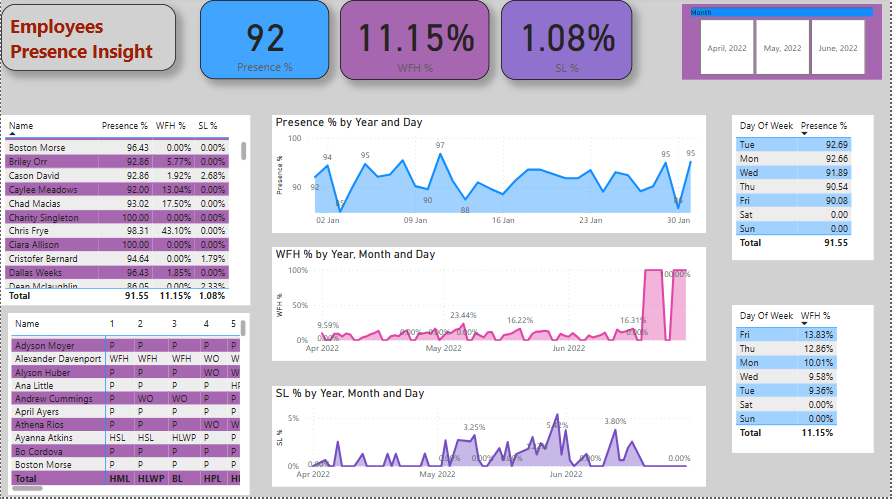

This screenshot's page, from the dashboard's own definition file:
{"tool":"powerbi","page":{"name":"Page 1","canvas":[1280,720],"ordinal":0},"visuals":[{"type":"card","fields":{"Values":["Measure Table.Presence %"]},"box":[10.1,50.4,185.8,113.8],"z":0},{"type":"card","fields":{"Values":["Measure Table.WFH %"]},"box":[216,54.7,191.5,109.4],"z":1000},{"type":"slicer","fields":{"Values":["FinalData.Month"]},"box":[980.6,10.1,288,44.6],"z":2000},{"type":"card","fields":{"Values":["Measure Table.SL %"]},"box":[521.3,54.7,152.6,109.4],"z":2001},{"type":"tableEx","fields":{"Values":["FinalData.Name","Measure Table.Presence %","Measure Table.WFH %","Measure Table.SL %"]},"box":[10.1,169.9,358.6,273.6],"z":2002},{"type":"textbox","box":[481,0,231.8,51.8],"z":2003},{"type":"pivotTable","fields":{"Rows":["FinalData.Name"],"Values":["Min(FinalData.Value)"],"Columns":["FinalData.Date.Variation.Date Hierarchy.Day"]},"box":[10.1,443.5,337,273.6],"z":2004},{"type":"areaChart","fields":{"Y":["Measure Table.Presence %"],"Category":["FinalData.Date.Variation.Date Hierarchy.Year","FinalData.Date.Variation.Date Hierarchy.Day"]},"box":[439.2,169.9,625,158.4],"z":2005},{"type":"areaChart","fields":{"Y":["Measure Table.WFH %"],"Category":["FinalData.Date.Variation.Date Hierarchy.Year","FinalData.Date.Variation.Date Hierarchy.Month","FinalData.Date.Variation.Date Hierarchy.Day"]},"box":[439.2,373,625,139.7],"z":2006},{"type":"areaChart","fields":{"Category":["FinalData.Date.Variation.Date Hierarchy.Year","FinalData.Date.Variation.Date Hierarchy.Month","FinalData.Date.Variation.Date Hierarchy.Day"],"Y":["Measure Table.SL %"]},"box":[439.2,545.8,625,139.7],"z":2007},{"type":"tableEx","fields":{"Values":["FinalData.Day Of Week","Measure Table.Presence %"]},"box":[1052.6,96.5,204.5,200.2],"z":2008},{"type":"tableEx","fields":{"Values":["FinalData.Day Of Week","Measure Table.WFH %"]},"box":[1052.6,328.3,204.5,200.2],"z":2009}]}

Visuals, with their boxes in screenshot pixels (x1, y1, x2, y2), scaled from the page's 1280x720 canvas onto the 894x499 screenshot:
card - Measure Table.Presence %: <bbox>7, 35, 137, 114</bbox>
card - Measure Table.WFH %: <bbox>151, 38, 285, 114</bbox>
slicer - FinalData.Month: <bbox>685, 7, 886, 38</bbox>
card - Measure Table.SL %: <bbox>364, 38, 471, 114</bbox>
tableEx - FinalData.Name x Measure Table.Presence %: <bbox>7, 118, 258, 307</bbox>
textbox: <bbox>336, 0, 498, 36</bbox>
pivotTable - FinalData.Name x Min(FinalData.Value): <bbox>7, 307, 242, 497</bbox>
areaChart - Measure Table.Presence % x FinalData.Date.Variation.Date Hierarchy.Year: <bbox>307, 118, 743, 228</bbox>
areaChart - Measure Table.WFH % x FinalData.Date.Variation.Date Hierarchy.Year: <bbox>307, 259, 743, 355</bbox>
areaChart - FinalData.Date.Variation.Date Hierarchy.Year x FinalData.Date.Variation.Date Hierarchy.Month: <bbox>307, 378, 743, 475</bbox>
tableEx - FinalData.Day Of Week x Measure Table.Presence %: <bbox>735, 67, 878, 206</bbox>
tableEx - FinalData.Day Of Week x Measure Table.WFH %: <bbox>735, 228, 878, 366</bbox>
